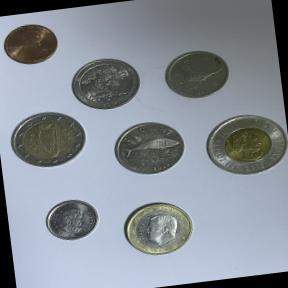1 Euro-B: (114, 194, 202, 263)
2 Euro-B: (3, 106, 92, 178)
Canada-10cent-B: (40, 194, 105, 248)
Canada-2Dollar-B: (196, 103, 288, 183)
Croatia-2Kune-B: (106, 115, 192, 184)
US-1cent-B: (0, 14, 68, 72)
US-25cent-B: (63, 48, 148, 115)
